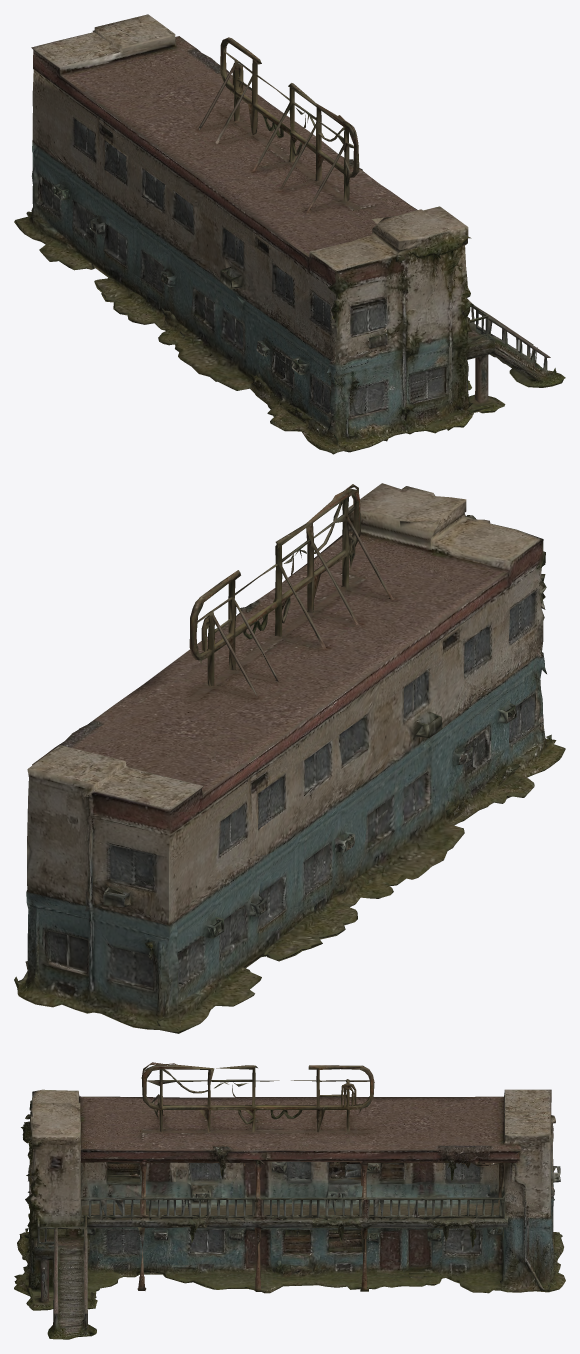
File: tripo_convert_30645e79-fc2a-40d3-a5d7-85700d699422.fbx
3 renders of one model, top to bottom at view 1: azimuth 30°, elevation 25°; view 2: azimuth 150°, elevation 25°; view 3: azimuth 270°, elevation 25°, orthographic. The views are drawn at different scales.
Visible parts, largest first — view 1: tripo_node_30645e79; view 2: tripo_node_30645e79; view 3: tripo_node_30645e79.
Part boxes in pixels (x1=…): tripo_node_30645e79: x1=14, y1=14, x2=565, y2=454; tripo_node_30645e79: x1=14, y1=483, x2=565, y2=1033; tripo_node_30645e79: x1=14, y1=1062, x2=565, y2=1339.
Size of the model in its own units: 0.4733 by 0.4198 by 0.9811.
Materials: 1 (1 with a texture image).
